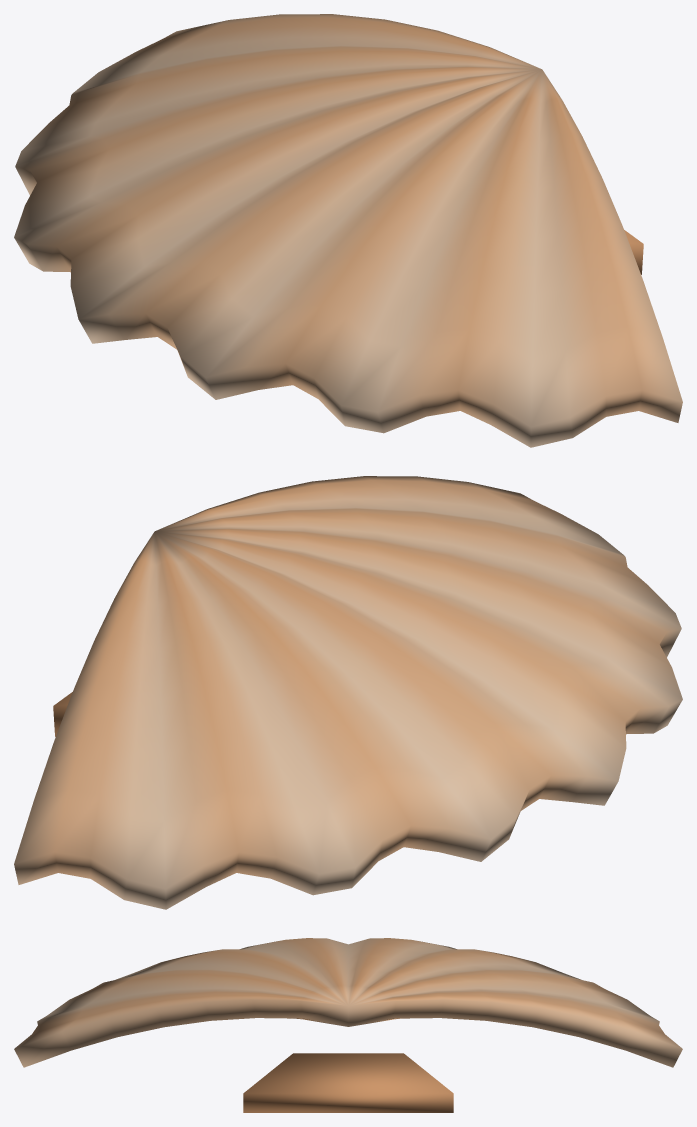
File: Coast_Scallop.fbx
3 renders of one model, top to bottom at view 1: azimuth 30°, elevation 25°; view 2: azimuth 150°, elevation 25°; view 3: azimuth 270°, elevation 25°, orthographic. The views are drawn at different scales.
Visible parts, largest first — view 1: Coast_Scallop; view 2: Coast_Scallop; view 3: Coast_Scallop.
Part boxes in pixels (x1,y1,x2,y2): Coast_Scallop: (14,14,682,447); Coast_Scallop: (14,476,682,909); Coast_Scallop: (14,938,682,1112).
Size of the model in its own units: 0.6686 by 0.2179 by 1.21.
